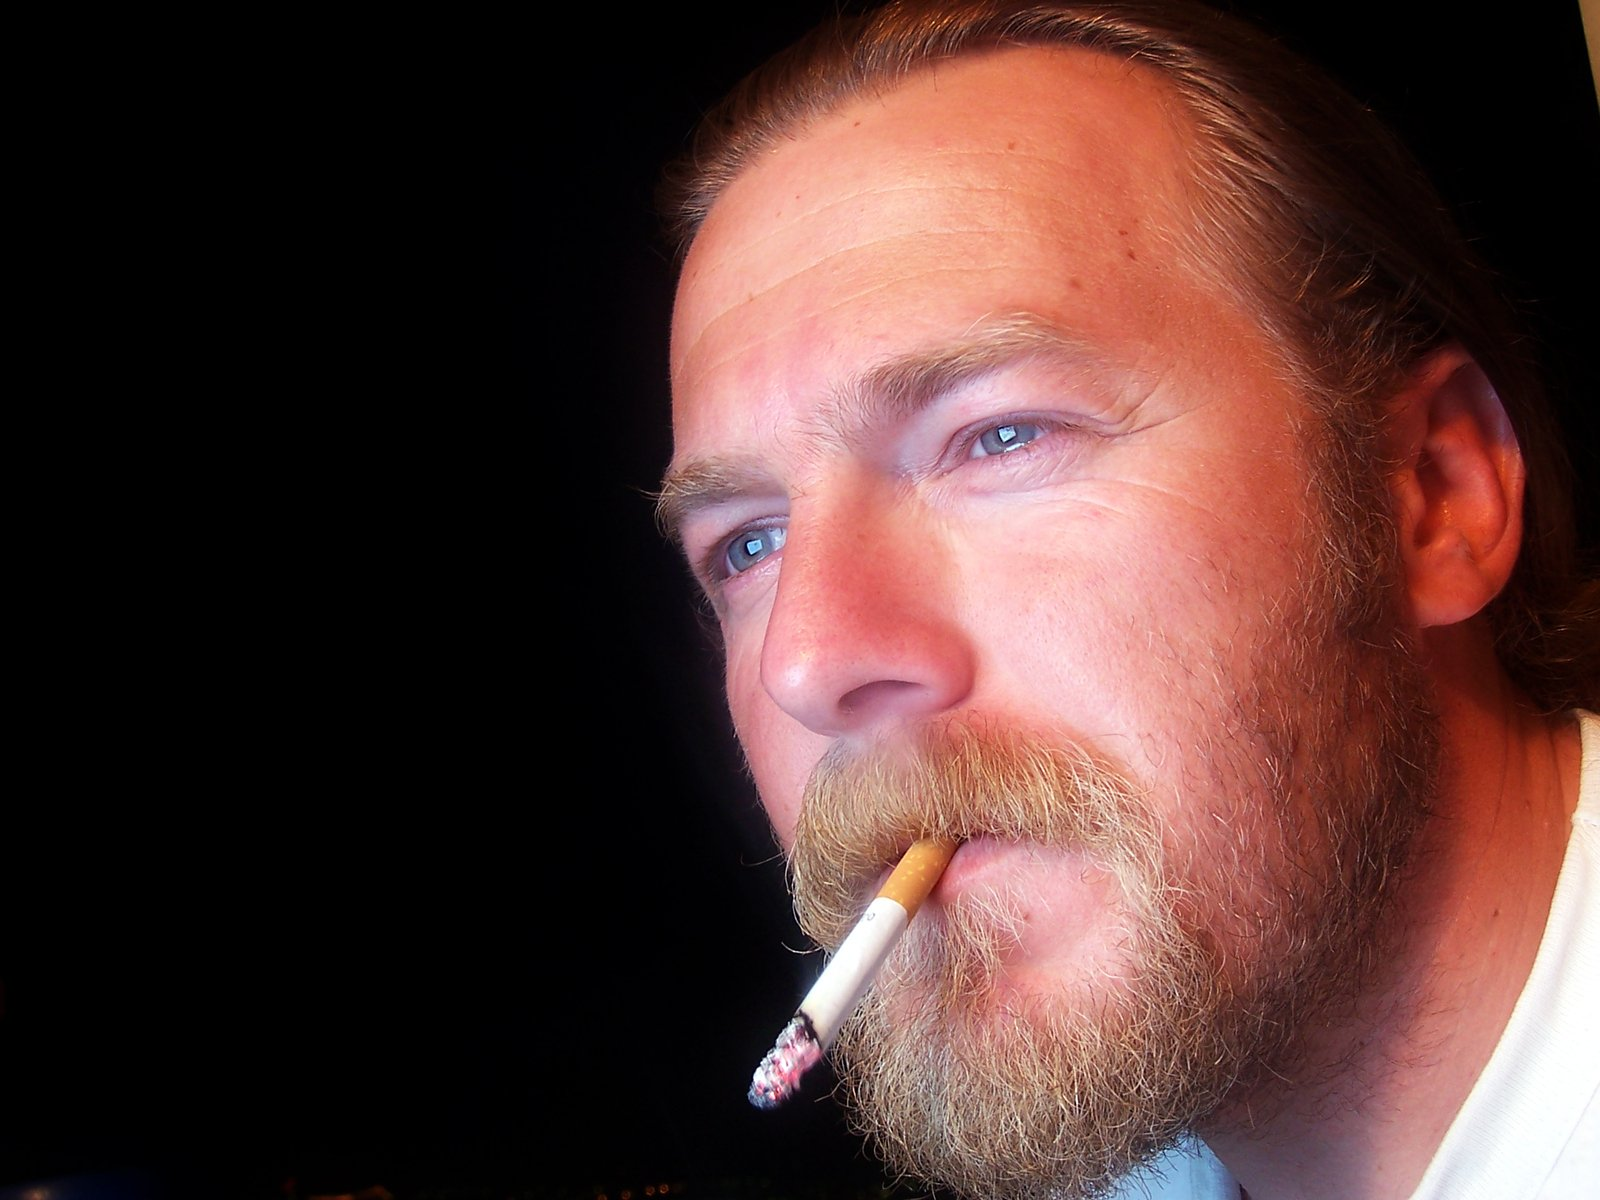cigarette: (743, 826, 947, 1107)
